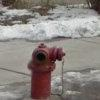Hydrant: (24, 30, 78, 100)
